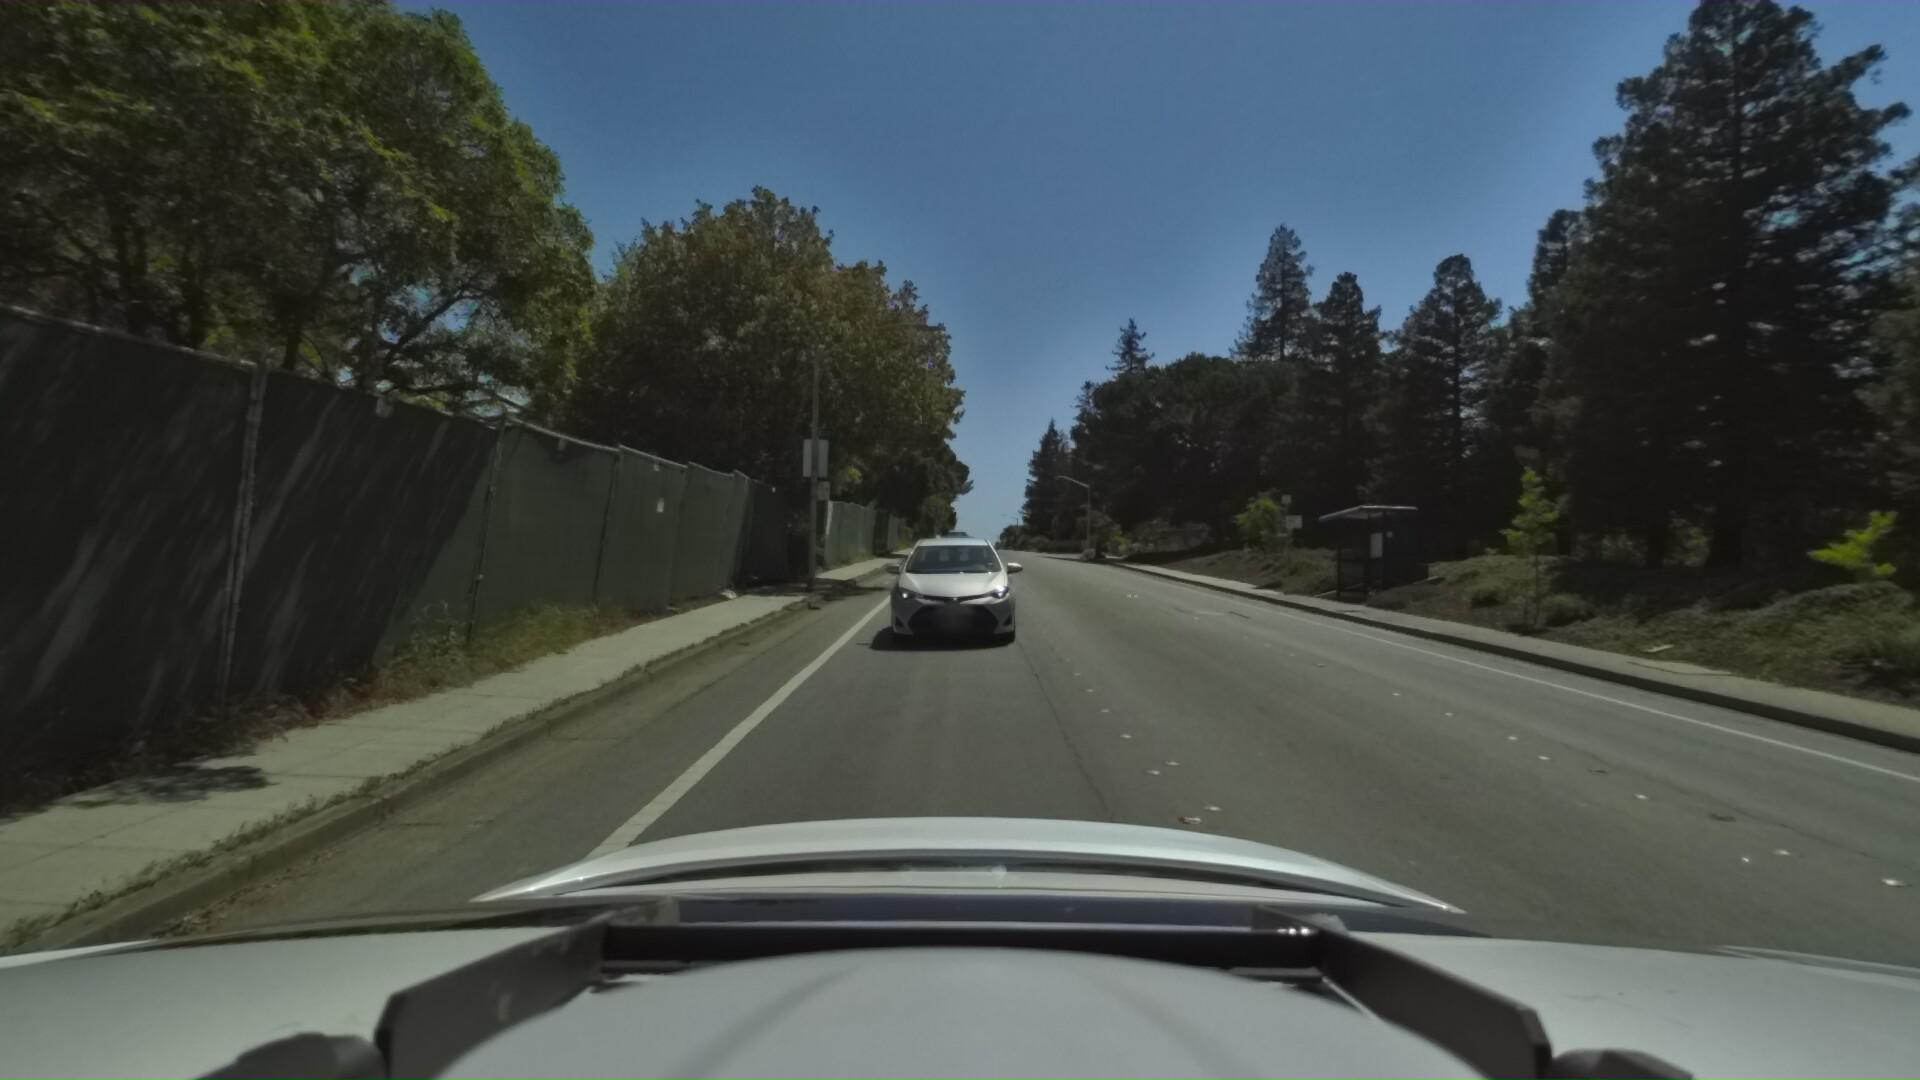car: (876, 524, 1039, 673), (928, 527, 986, 582)
